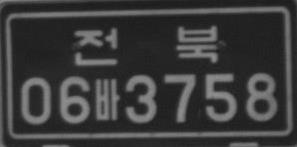0: (20, 76, 51, 125)
3: (124, 74, 158, 123)
5: (204, 72, 238, 122)
6: (59, 75, 90, 123)
7: (163, 73, 196, 123)
8: (245, 72, 278, 122)
바: (94, 77, 119, 121)
전북_D: (74, 24, 218, 66)
